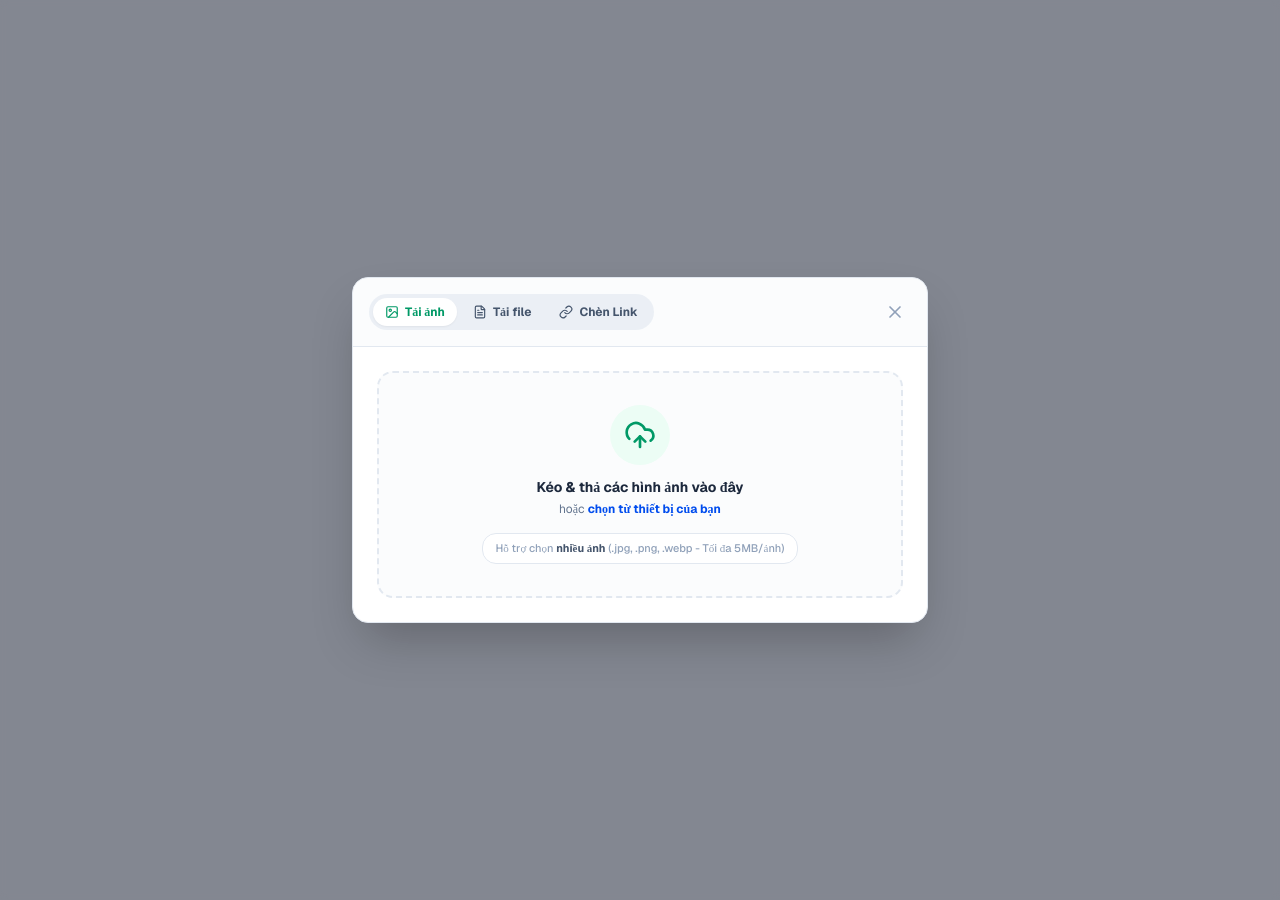
MediaUploadModal Component › renders mode tabs correctly and switches mode
Expected: the button "Tải ảnh" is shown, 373,298 -> 457,326
Expected: the button "Tải file" is shown, 461,298 -> 544,326
Note: Switch to Link mode
Step 1. Click the button "Chèn Link" → (599, 312), box 548,298 -> 650,326
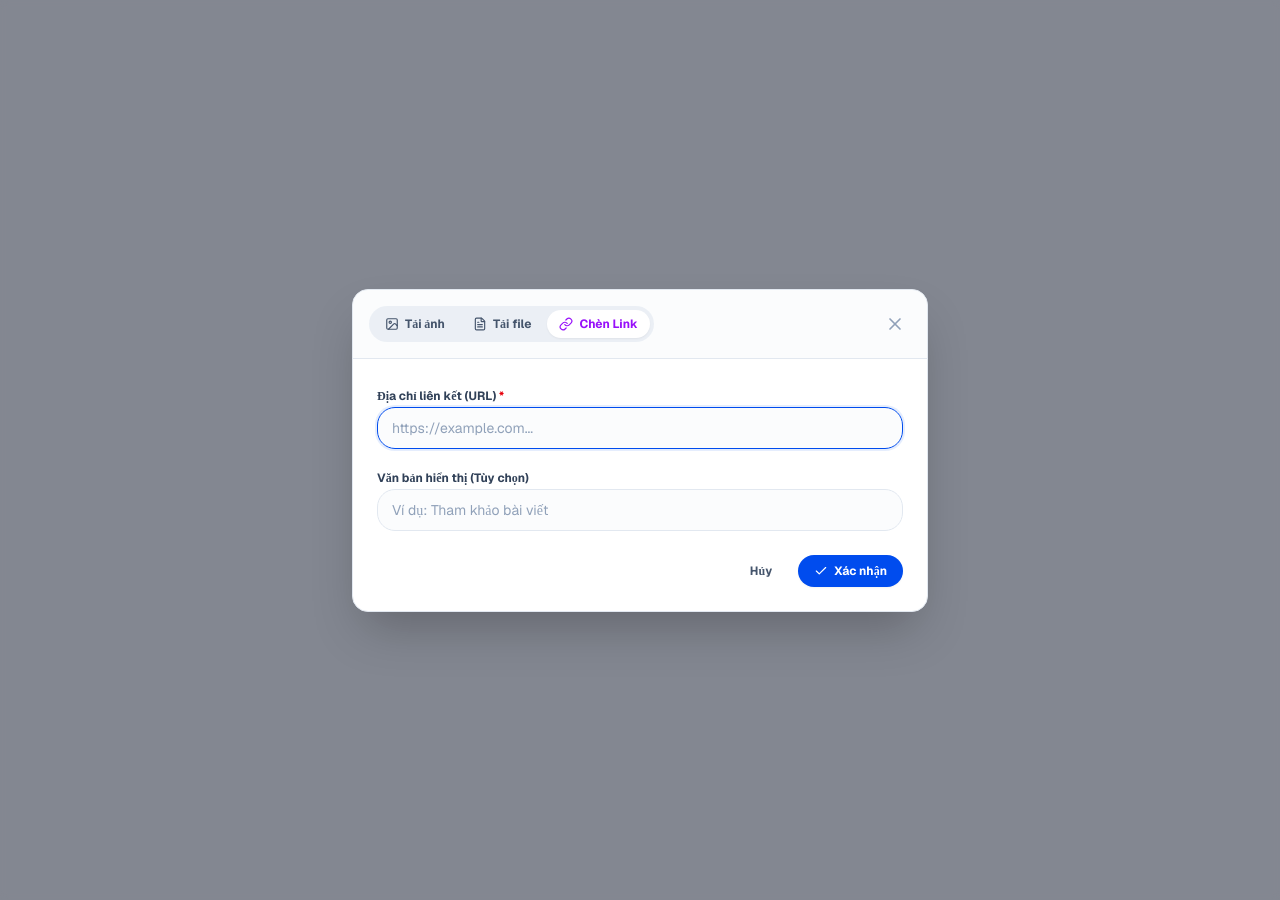
Expected: the field with placeholder "https://example.com..." is shown, 377,406 -> 903,448
